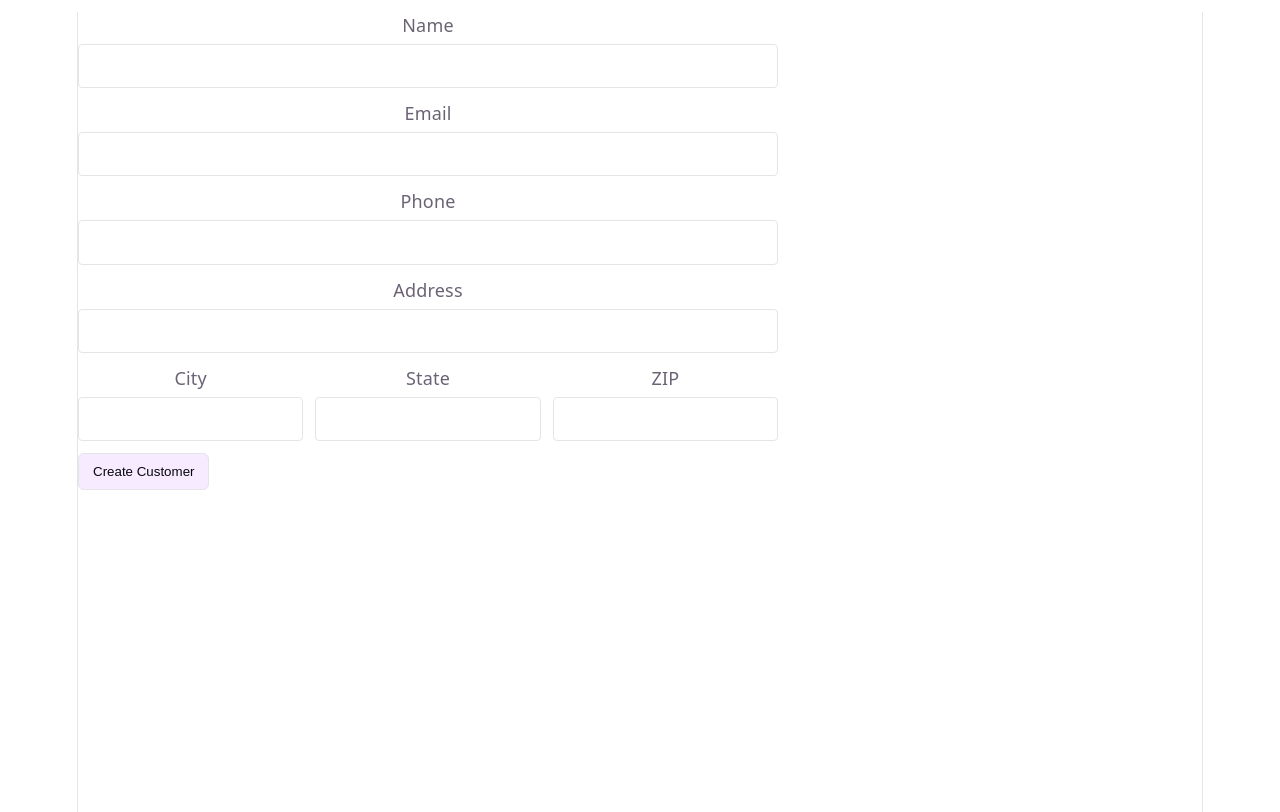
Scenario: CustomerForm › does not accept spaces in the email field
The width and height of the screenshot is (1280, 812).
In the field labelled "Email": (428, 154) [78, 132, 778, 176], type "alice smith@example.com"
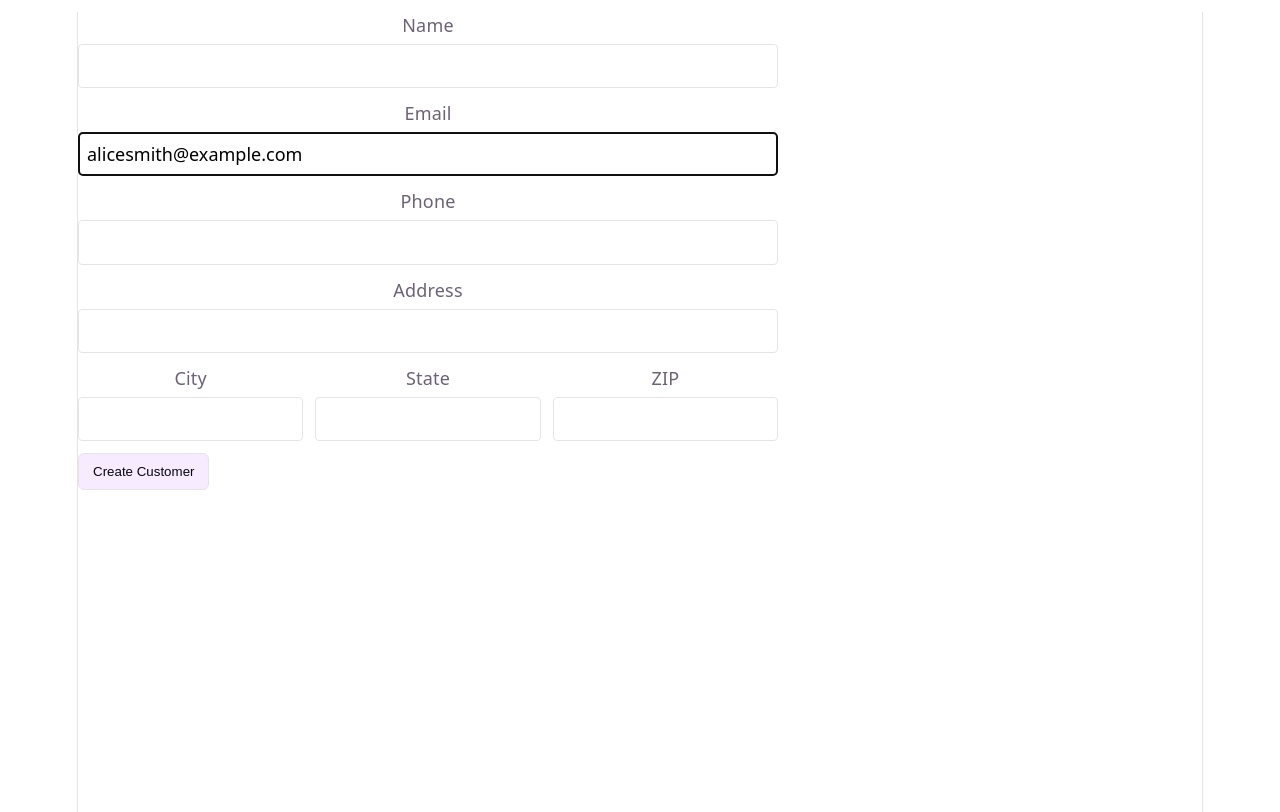
Result: the field labelled "Email" holds "alicesmith@example.com" at [78, 132, 778, 176]
